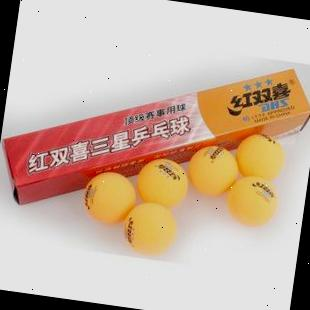ball: (76, 164, 142, 230), (118, 196, 179, 260), (222, 170, 283, 232), (131, 152, 192, 213), (183, 138, 242, 201), (230, 127, 290, 187)
